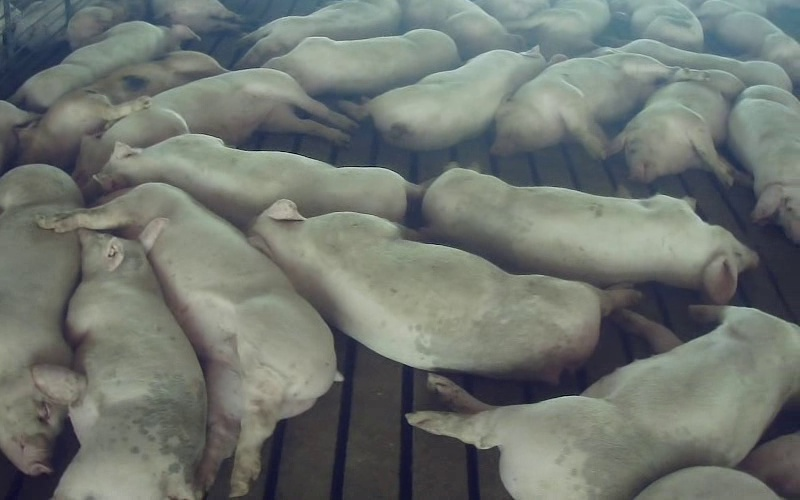pig: (408, 306, 799, 499), (33, 219, 204, 499), (422, 168, 757, 303), (74, 68, 354, 184), (93, 134, 420, 227), (0, 164, 80, 475), (17, 51, 225, 169), (366, 46, 563, 150), (491, 53, 675, 158), (10, 21, 196, 111), (613, 69, 748, 185), (264, 29, 459, 95), (728, 85, 799, 243), (588, 39, 791, 90), (697, 0, 799, 86), (401, 0, 524, 59)
